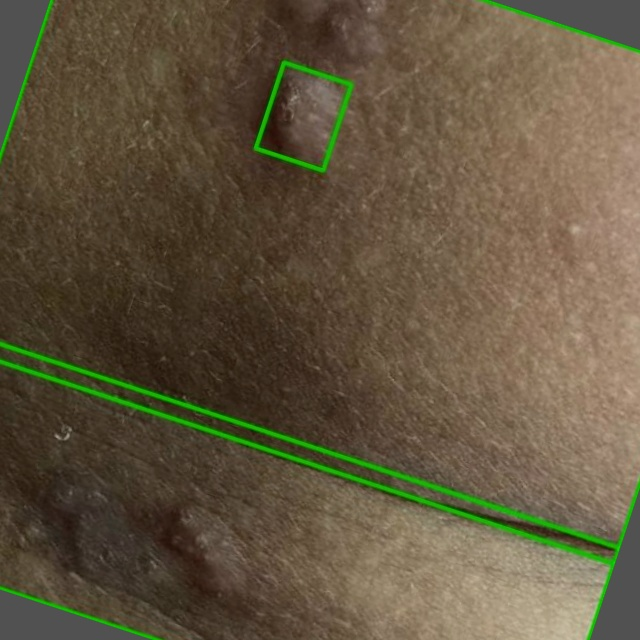Scabies: (0, 0, 639, 563), (0, 343, 619, 639), (255, 62, 351, 170)
